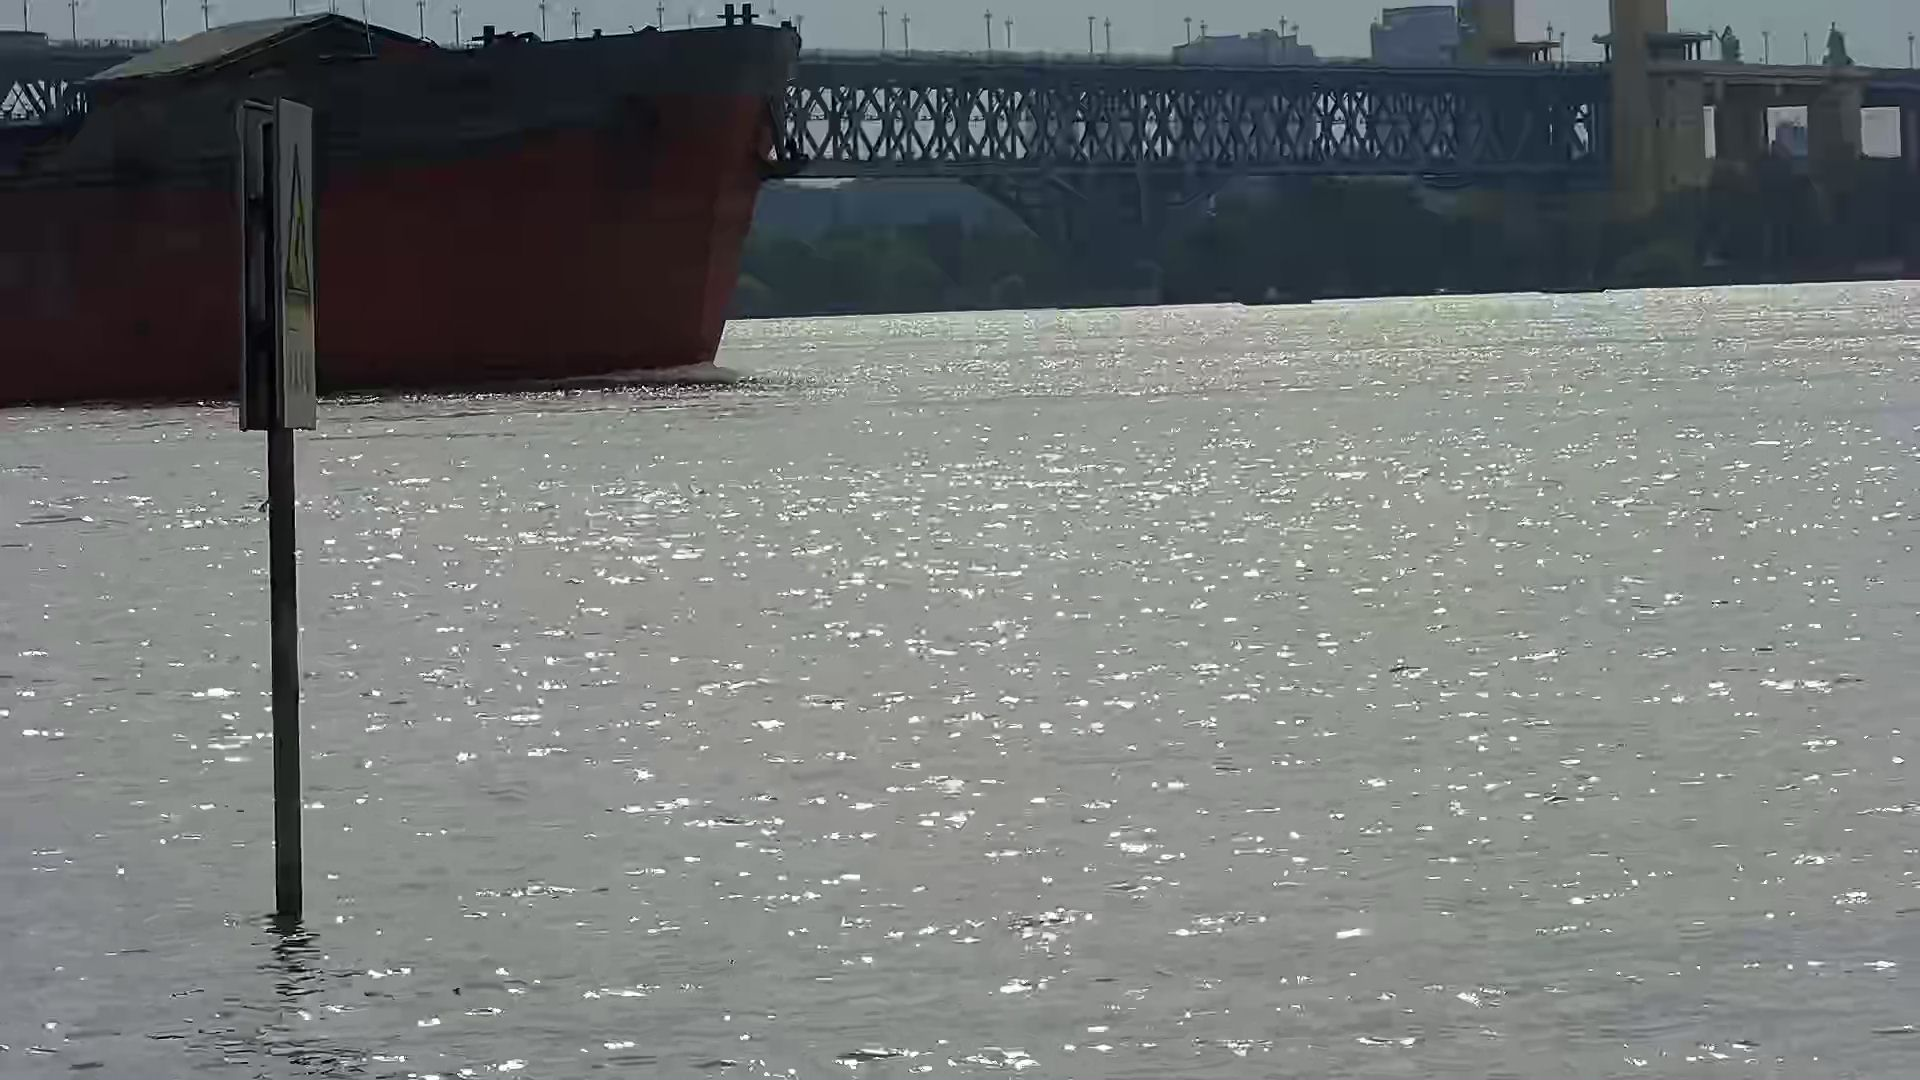bridge: (1, 1, 1589, 307)
mast: (237, 99, 316, 916)
ship: (1, 15, 802, 415)
